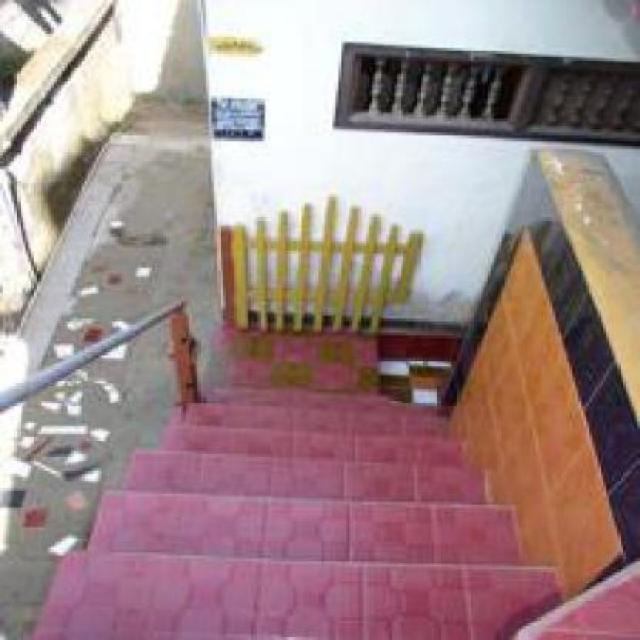stair: (82, 415, 508, 622)
